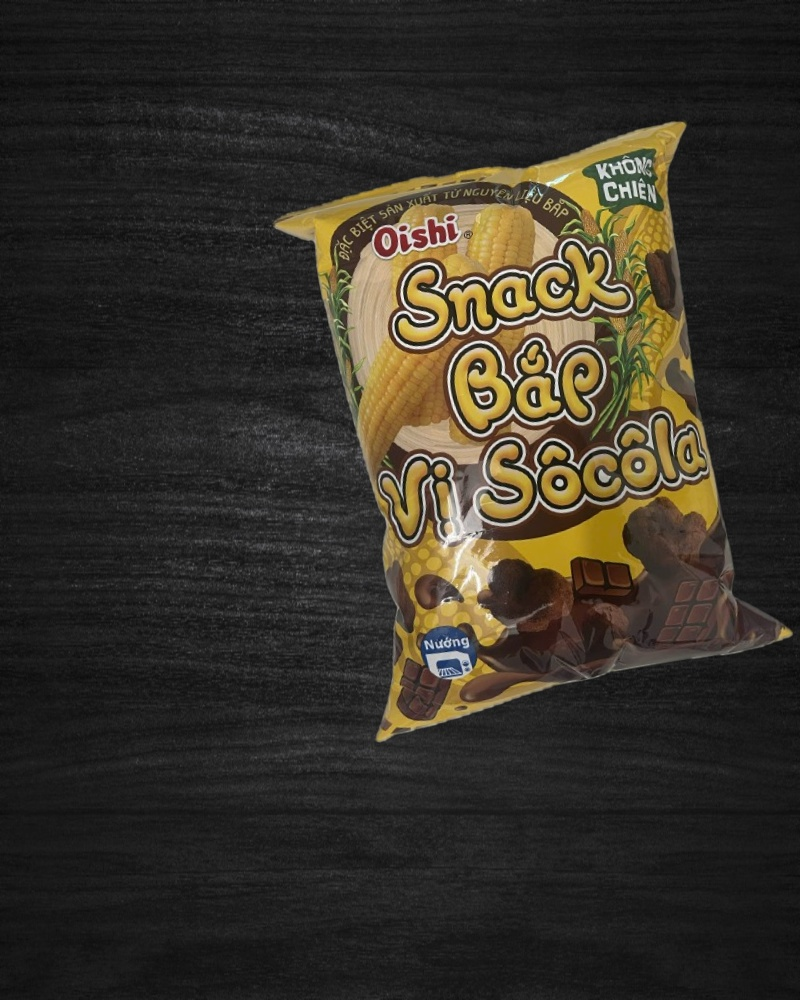Snack socola: (270, 120, 798, 733)
